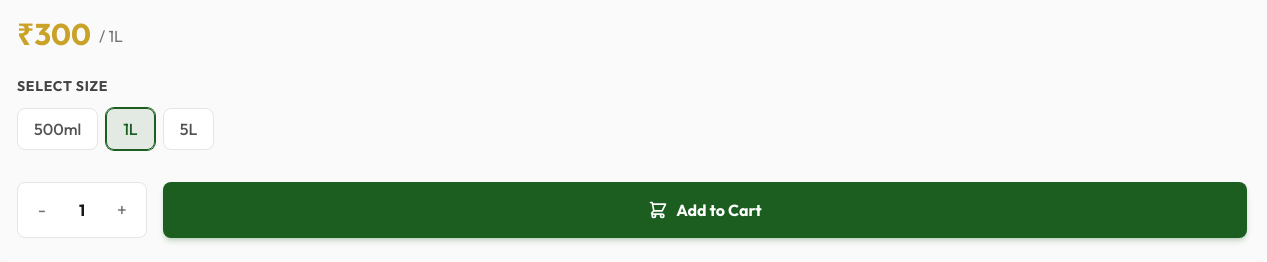
Scenario: AddToCartSection Component UI Tests › should update price when a different size is selected
Click the button "500ml".
click(58, 129)  # box [17,108,98,150]
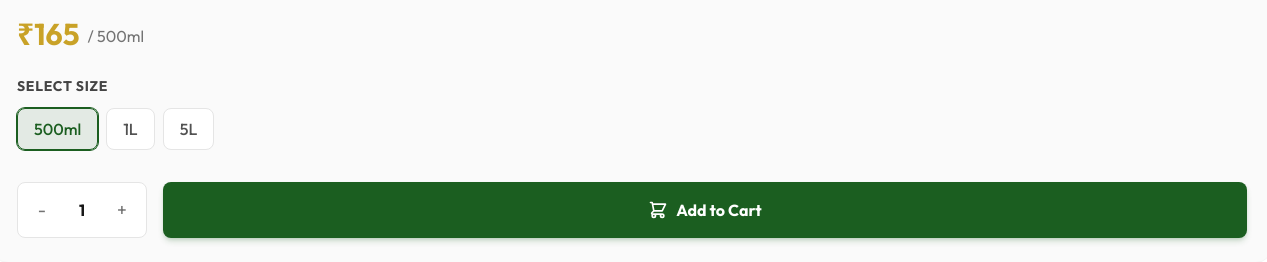
expect the text "₹165" is shown: met, box [17,16,80,52]
Click the button "5L".
click(188, 129)  # box [163,108,214,150]
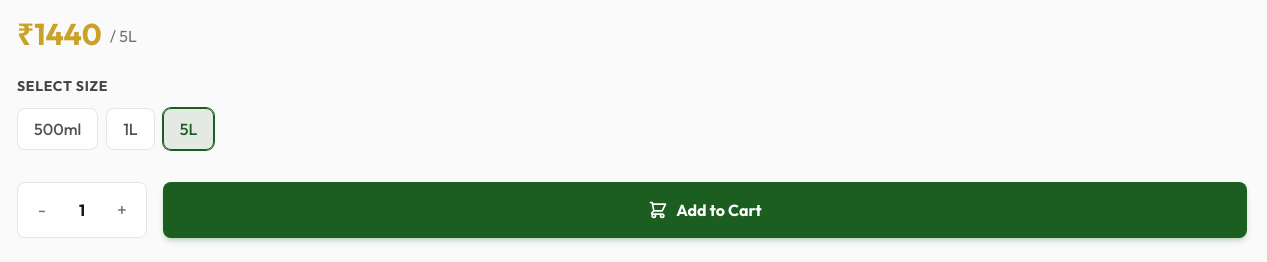
expect the text "₹1440" is shown: met, box [17,16,102,52]
